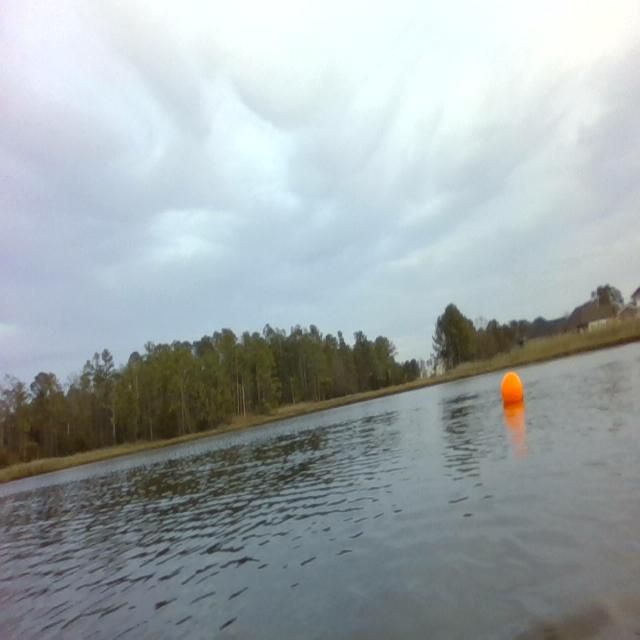Buoy: (499, 368, 525, 408)
